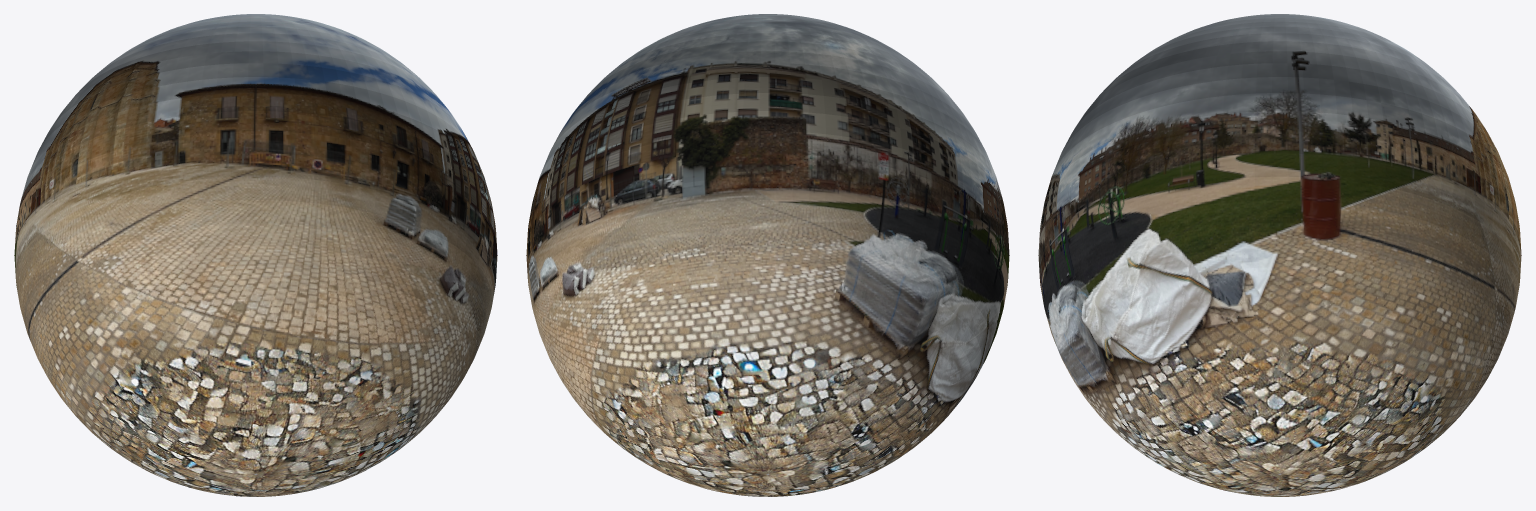
Rendered from building_123.glb.
3 renders of one model, left to right at view 1: azimuth 30°, elevation 25°; view 2: azimuth 150°, elevation 25°; view 3: azimuth 270°, elevation 25°, orthographic.
Bounding box in the file's own units: 2 × 2 × 2.
1 material, 1 textured.
